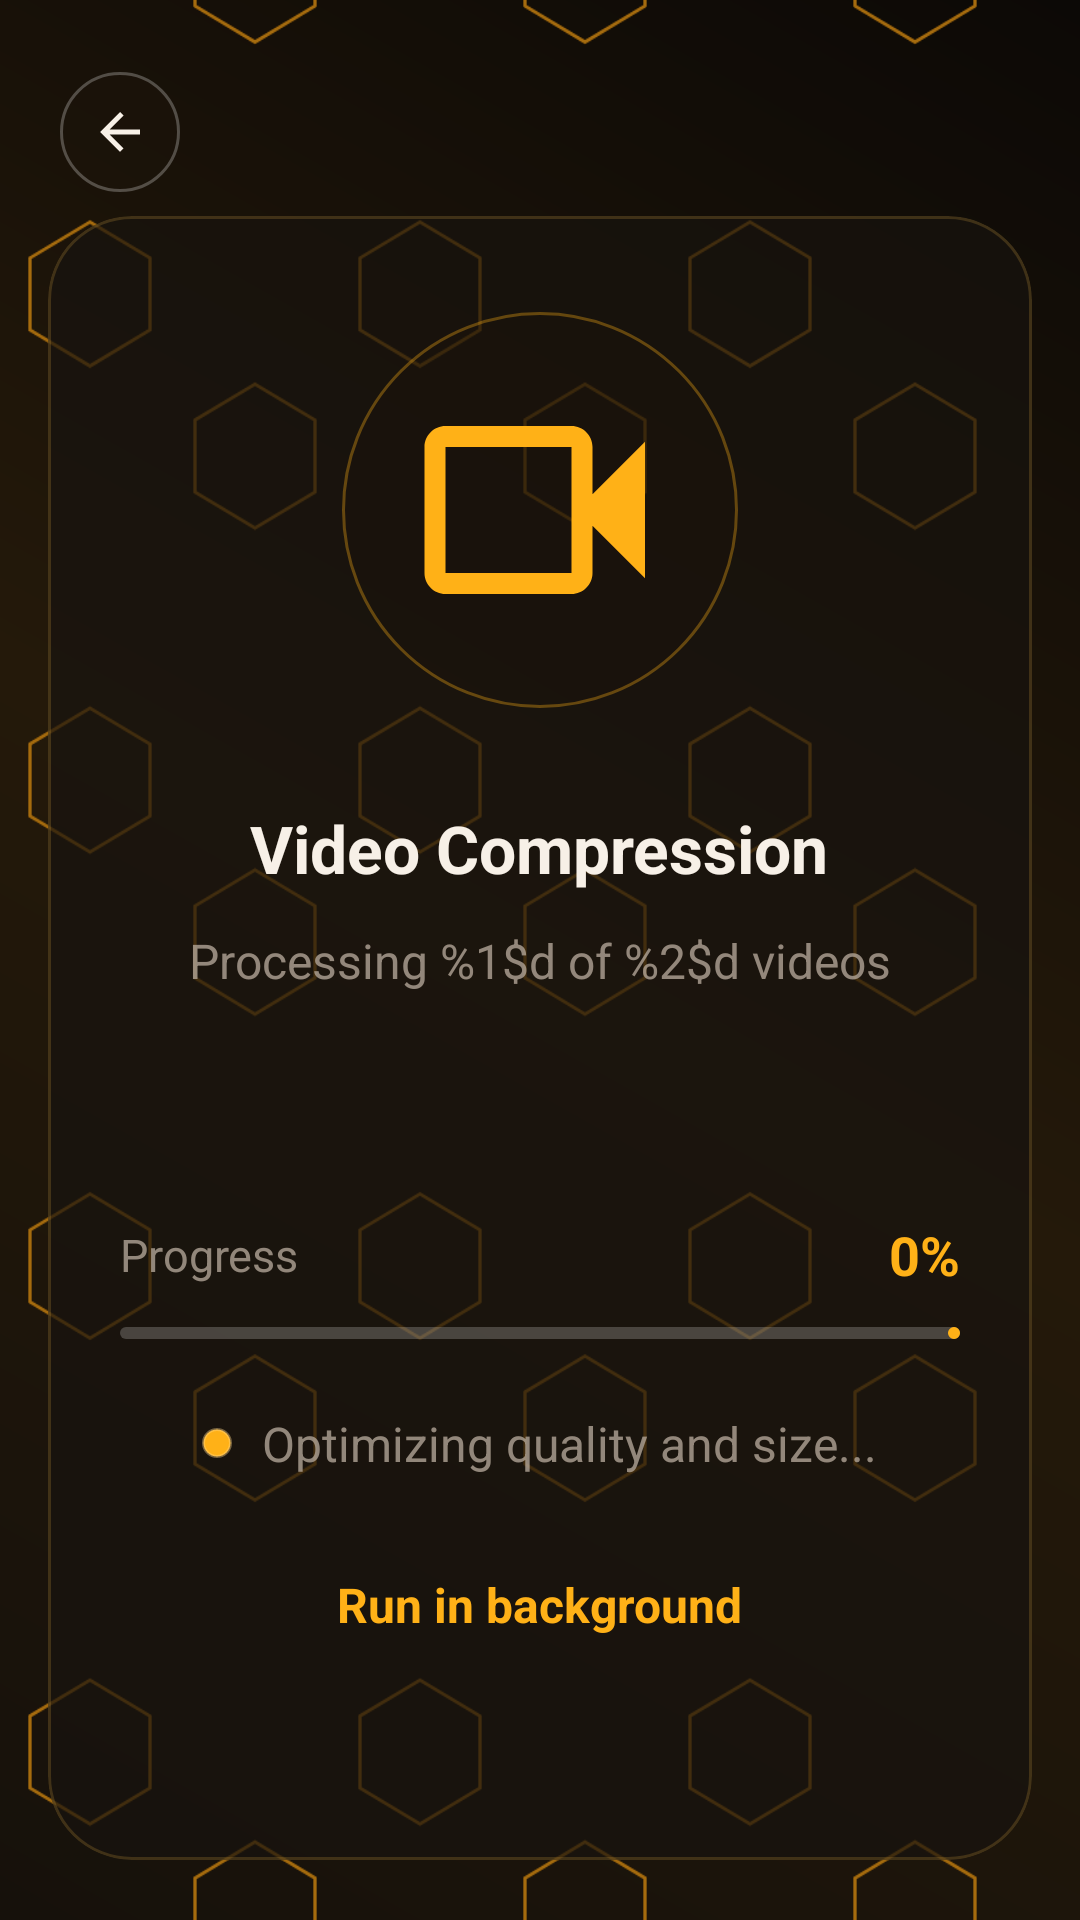

Locate icon controls on the screen. Image size 1080×1920, boxes as (x1, y1, x2, y2).
back arrow: (60, 72, 180, 192)
video: (424, 384, 646, 594)
